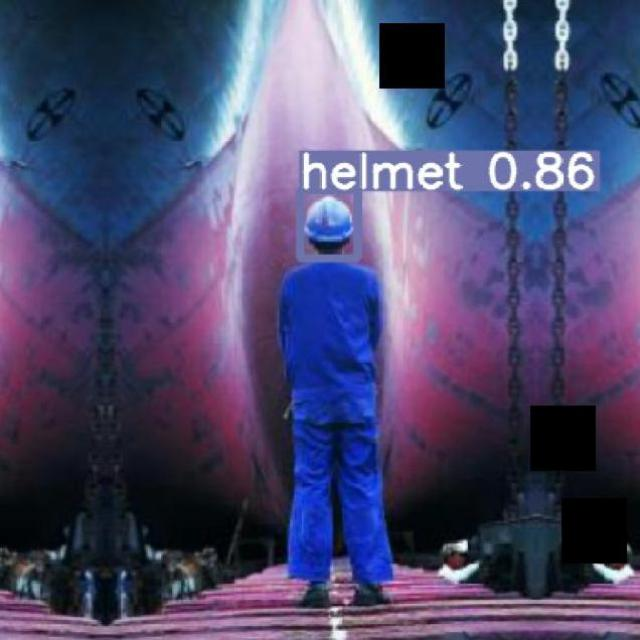blue helmet: (299, 188, 359, 259)
